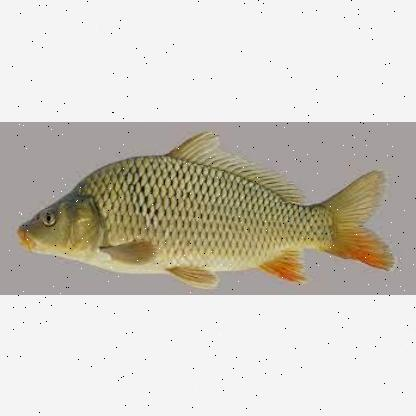ikan-mas: (14, 140, 392, 282)
